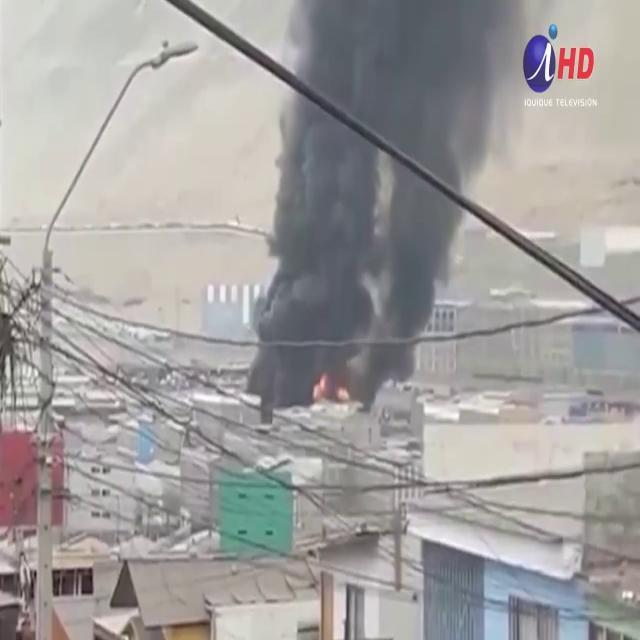Smoke: (230, 1, 510, 399)
